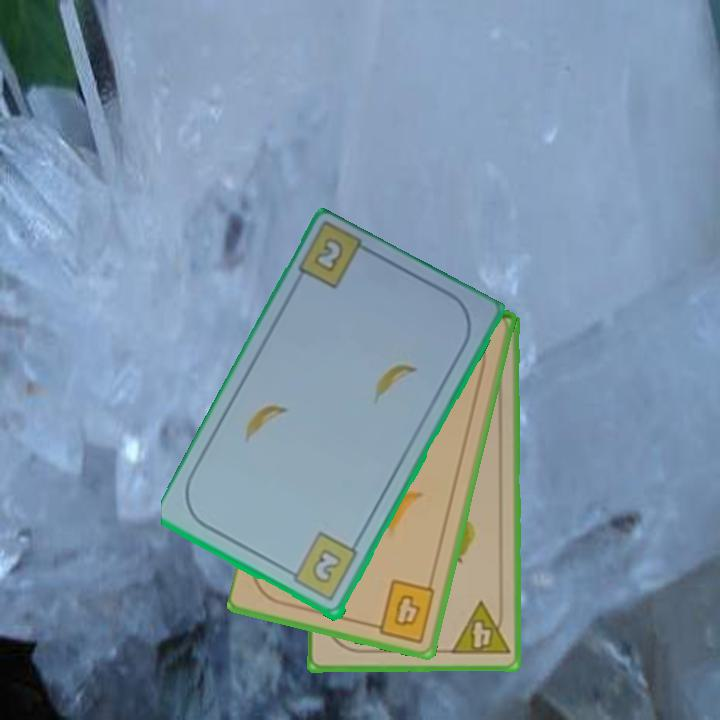2b: (282, 529, 361, 605), (310, 234, 347, 276)
4b: (366, 576, 439, 646)
4p: (447, 598, 512, 659)
